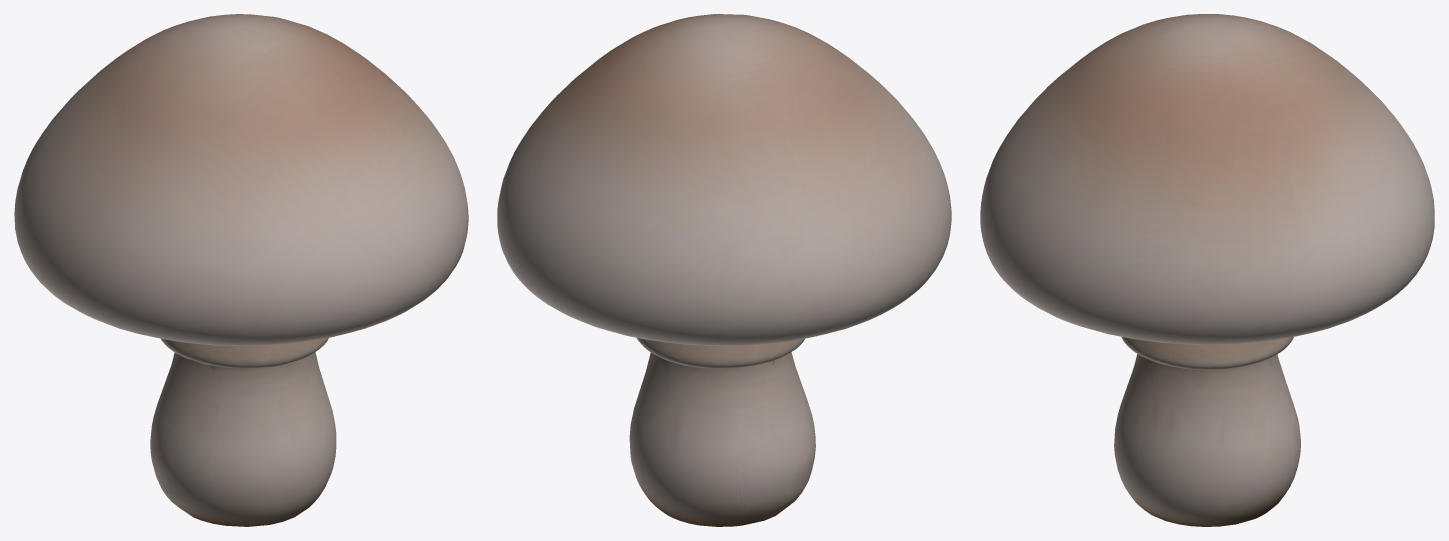
Rendered from fungi.glb.
3 views of the same model, side by side, from view 1: azimuth 30°, elevation 25°; view 2: azimuth 150°, elevation 25°; view 3: azimuth 270°, elevation 25° (orthographic).
Visible parts, largest first — view 1: Mesh_0; view 2: Mesh_0; view 3: Mesh_0.
Boxes of the visible parts, x1,y1,x2,y2 form: Mesh_0: (14,14,468,526); Mesh_0: (497,14,951,526); Mesh_0: (980,14,1434,526).
Size of the model in its own units: 1.02 by 1.17 by 1.03.
Materials: 1 (1 with a texture image).
